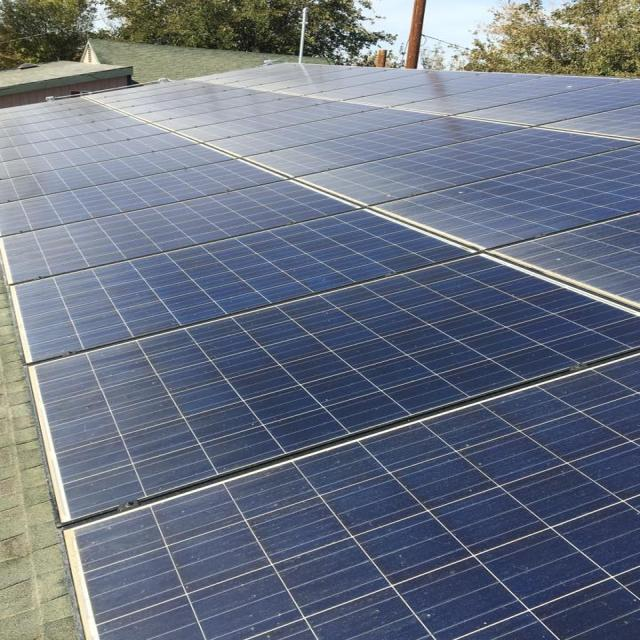dust-solar-panel: (88, 60, 640, 312)
